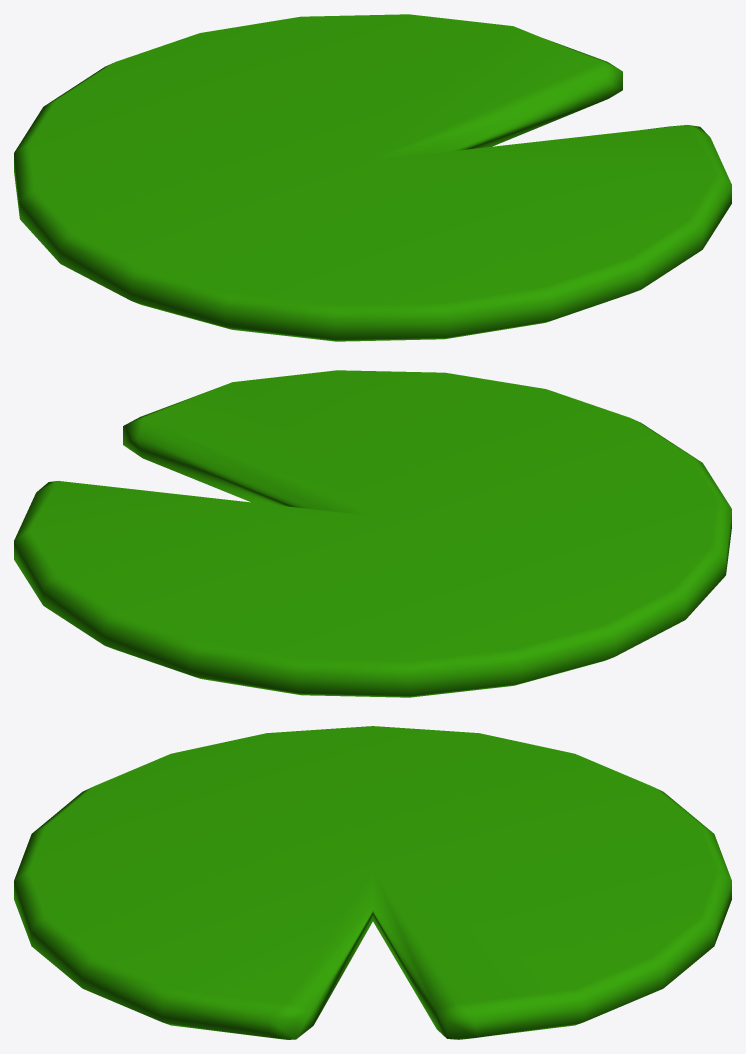
File: Ninfea.fbx
The picture shows the model from 3 angles, top to bottom: view 1: azimuth 30°, elevation 25°; view 2: azimuth 150°, elevation 25°; view 3: azimuth 270°, elevation 25°; orthographic projection.
Parts seen in each view (by area): view 1: Ninfea2; view 2: Ninfea2; view 3: Ninfea2.
Boxes of the visible parts, x1=… form: Ninfea2: x1=14, y1=14, x2=731, y2=341; Ninfea2: x1=14, y1=370, x2=731, y2=697; Ninfea2: x1=14, y1=726, x2=731, y2=1039.
Bounding box in the file's own units: 6.68 × 0.3901 × 6.95.
